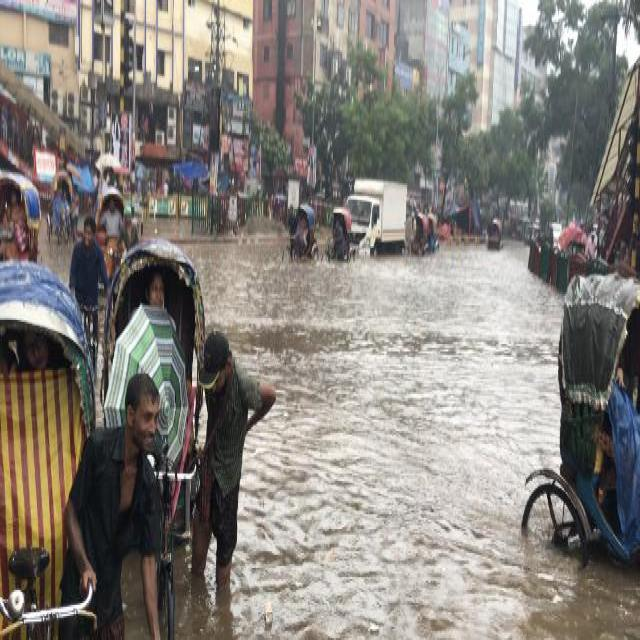rickshaw: (0, 254, 168, 636), (101, 235, 211, 625), (519, 255, 639, 568), (0, 168, 42, 259), (280, 198, 318, 259), (46, 167, 74, 245), (322, 203, 352, 261), (409, 210, 429, 254), (486, 213, 502, 250)
truck: (351, 177, 409, 250)
